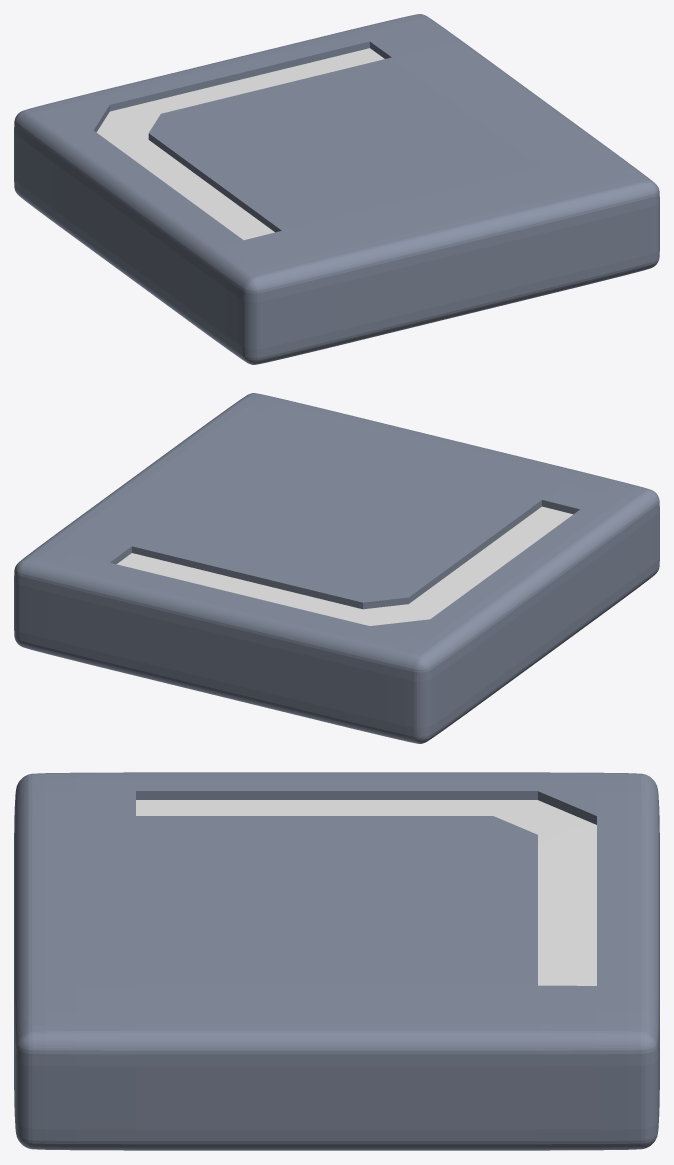
File: base-corner.fbx
3 renders of one model, top to bottom at view 1: azimuth 30°, elevation 25°; view 2: azimuth 150°, elevation 25°; view 3: azimuth 270°, elevation 25°, orthographic. The views are drawn at different scales.
Parts seen in each view (by area): view 1: base-corner; view 2: base-corner; view 3: base-corner.
Part boxes in pixels (x1=…): base-corner: x1=14, y1=14, x2=659, y2=364; base-corner: x1=14, y1=393, x2=659, y2=743; base-corner: x1=14, y1=772, x2=659, y2=1150.
Bounding box in the file's own units: 199 × 41.32 × 199.
